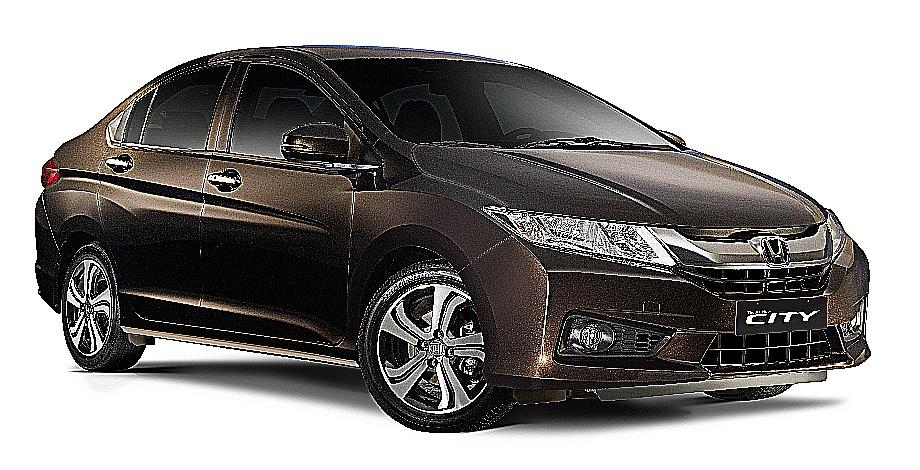Car hood: (409, 140, 832, 229)
Driver-s door - -F-R-: (203, 50, 361, 347)
Fender - -F-R-: (350, 126, 519, 377)
Fender - -R-R-: (45, 148, 123, 350)
Front bumper: (462, 237, 887, 405)
Headlight - -L-: (810, 203, 858, 266)
Headlight - -R-: (479, 195, 688, 272)
Passenger-s door - -R-R-: (92, 50, 207, 329)
Rear bumper: (20, 192, 68, 314)
Rear light - -R-: (32, 152, 67, 185)
Side bumper - -R-: (119, 300, 367, 373)
Side mirror - -L-: (649, 117, 696, 159)
Side mirror - -R-: (280, 107, 359, 170)
